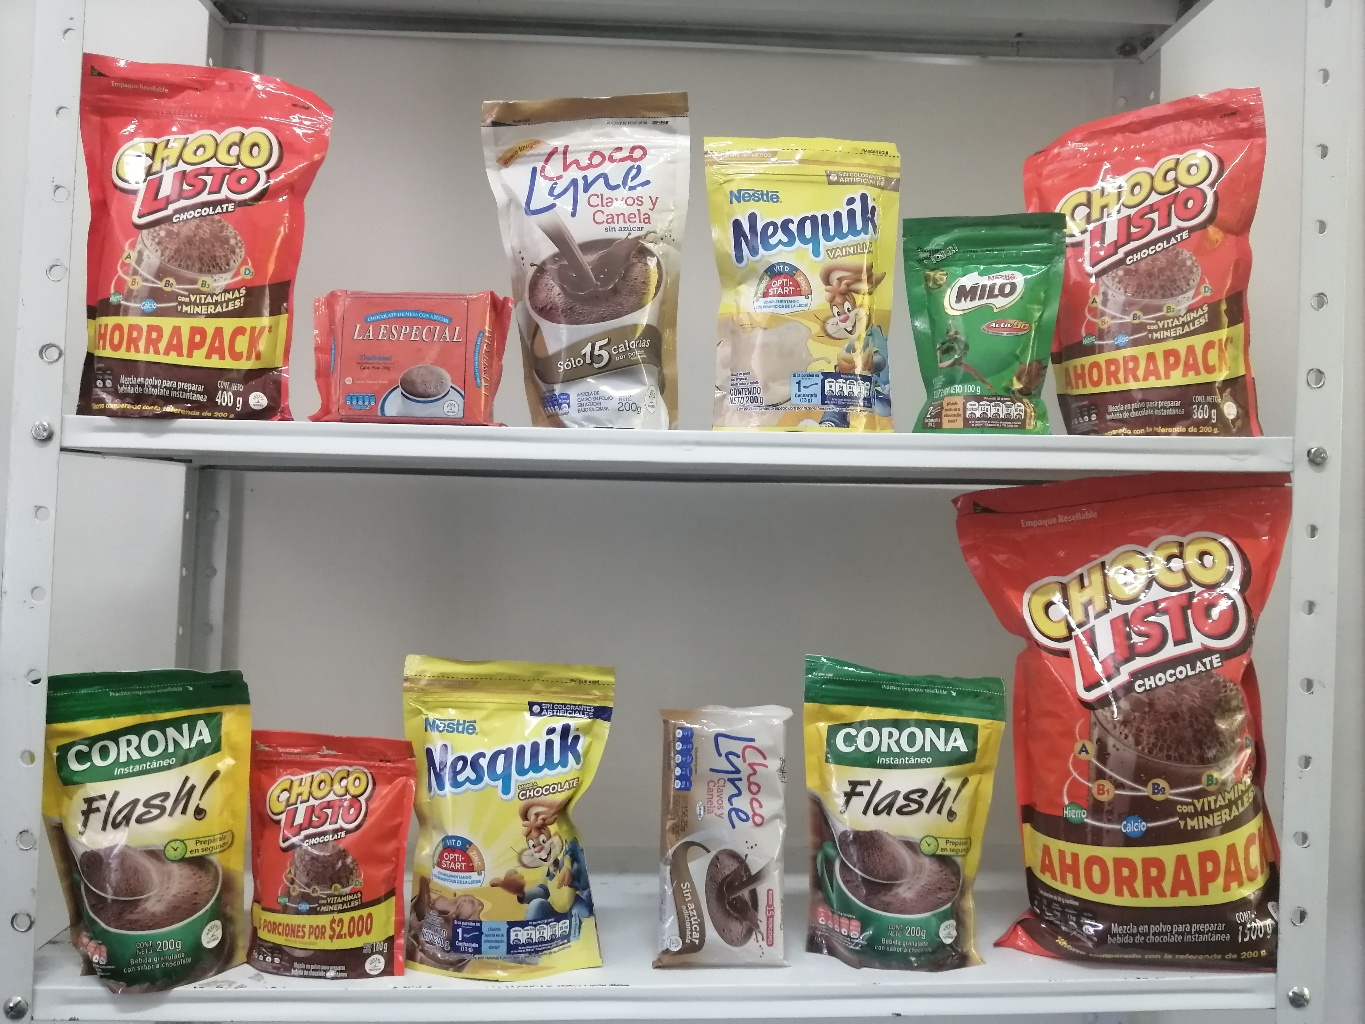COL0170103DYP1,500: (934, 459, 1323, 986)
COL0170103DYP10000: (214, 725, 425, 995)
COL0170103DYP36000: (1001, 79, 1310, 446)
COL0170103DYP40000: (34, 28, 337, 439)
COL0170203DYP10000: (879, 186, 1077, 441)
COL0170303DYP20000: (386, 634, 626, 989)
COL0170306DYP20000: (662, 120, 923, 441)
